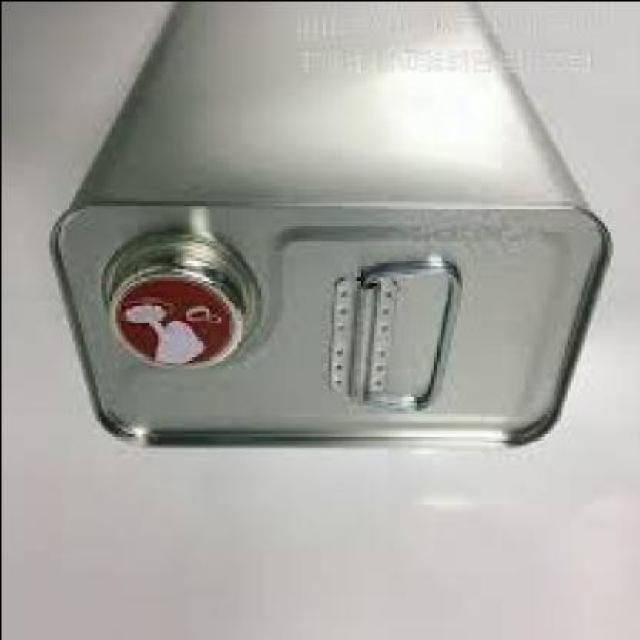METAL: (43, 3, 612, 452)
